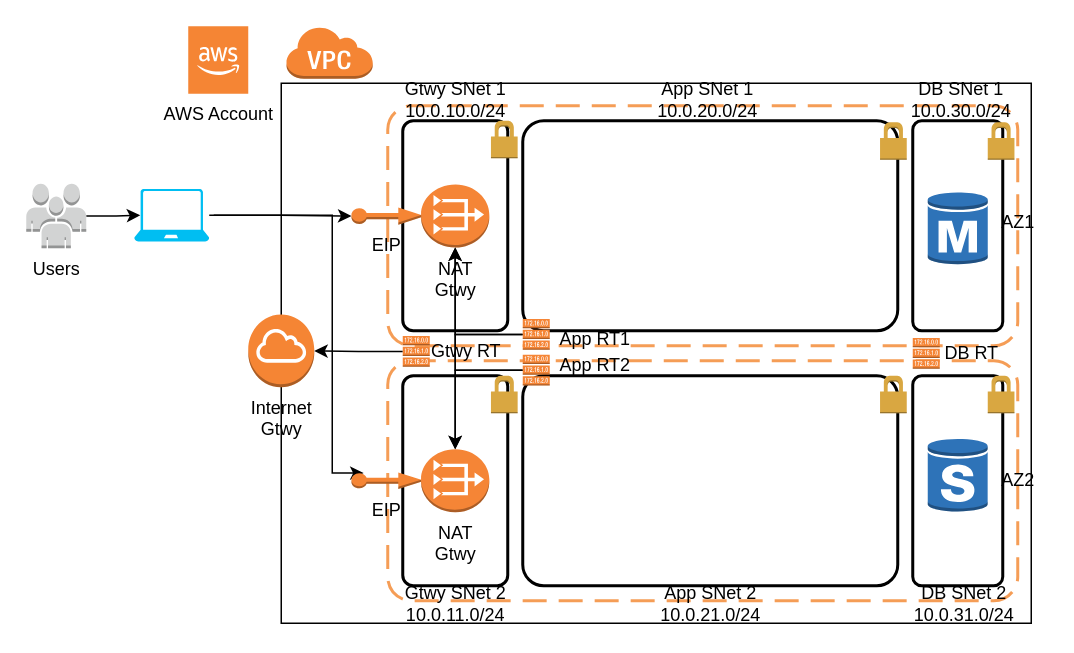
This 1074x653 diagram has some shape labels left out. The centre of each missing label's shape, as x and y in pixels:
User Browser: point (171, 214)
VPC 10.0.0.0/16: point (328, 52)
